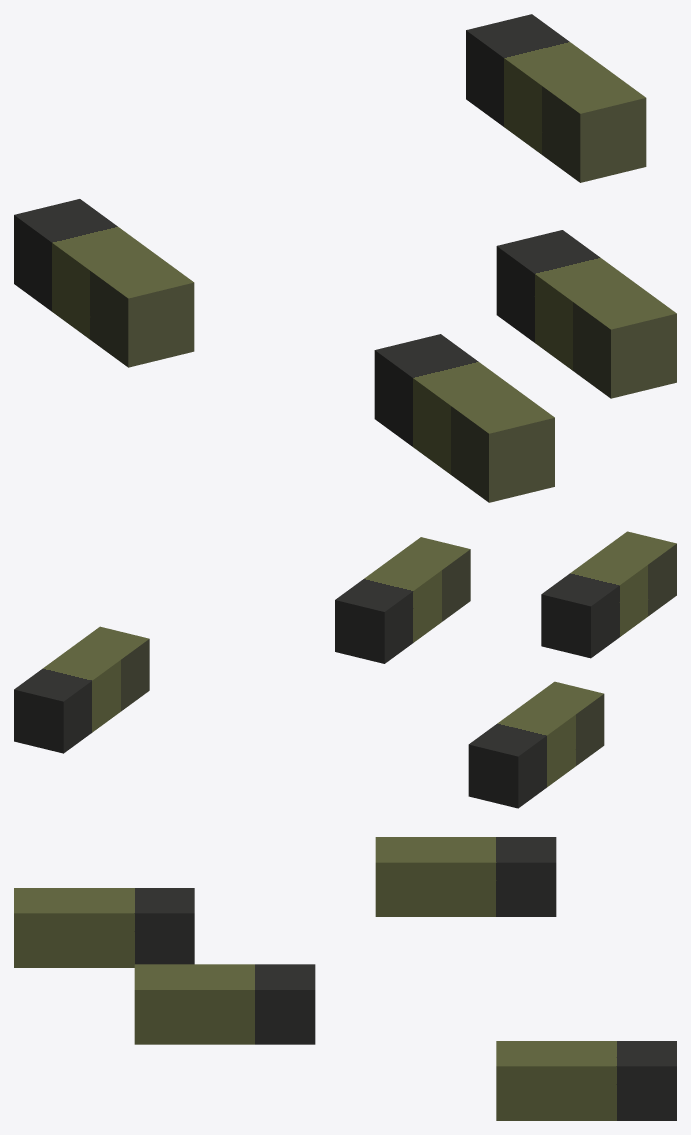
The model's file is Balas.obj.
The picture shows the model from 3 angles, top to bottom: view 1: azimuth 30°, elevation 25°; view 2: azimuth 150°, elevation 25°; view 3: azimuth 270°, elevation 25°; orthographic projection. The views are drawn at different scales.
Parts seen in each view (by area): view 1: mesh; view 2: mesh; view 3: mesh.
Part boxes in pixels (bbox=[...]): mesh: bbox=[14, 14, 676, 502]; mesh: bbox=[14, 531, 676, 808]; mesh: bbox=[14, 837, 676, 1120].
Bounding box in the file's own units: 0.5625 × 0.0625 × 0.6875.
1 material, 1 textured.
